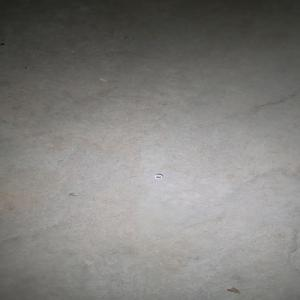Nut: (154, 174, 164, 180)
